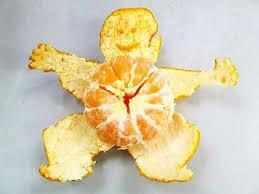Organic: (11, 15, 243, 194)
